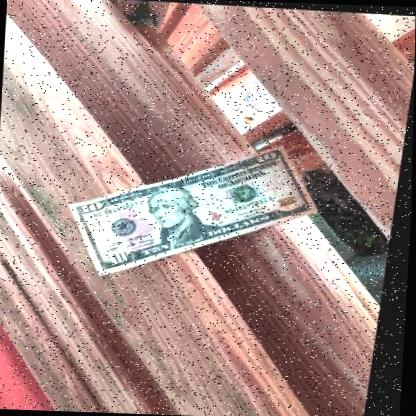dollar_front: (74, 143, 324, 276)
